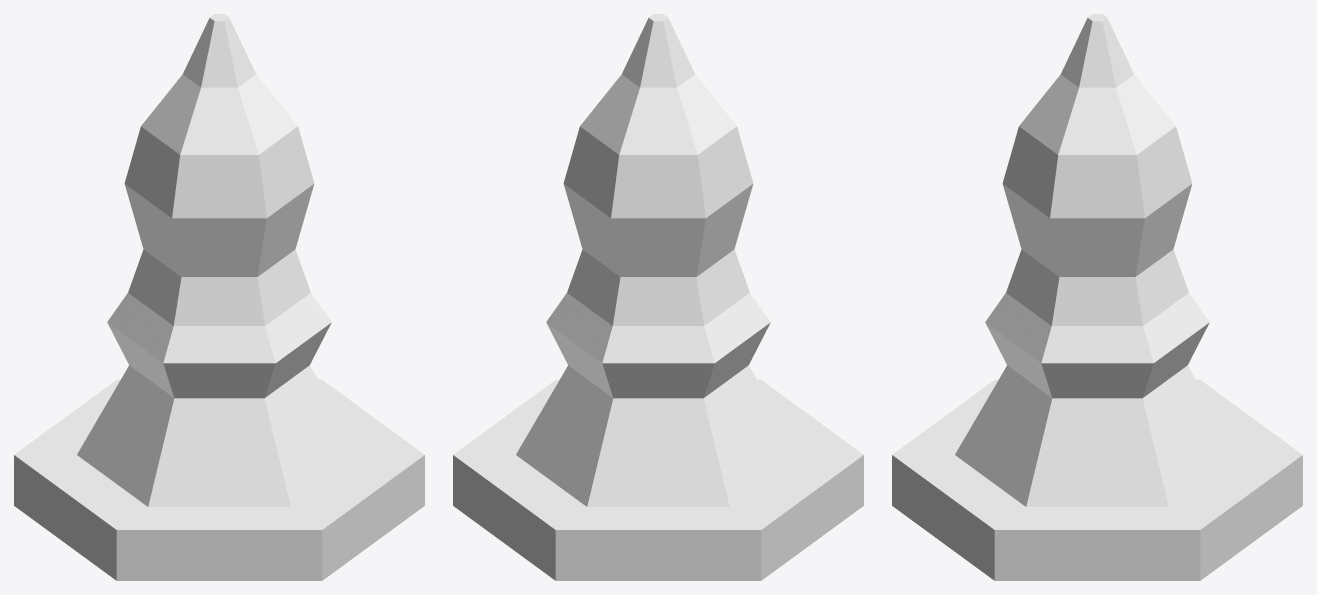
File: chesspiecebishop01.gltf
The picture shows the model from 3 angles, left to right: view 1: azimuth 30°, elevation 25°; view 2: azimuth 150°, elevation 25°; view 3: azimuth 270°, elevation 25°; orthographic projection.
Visible parts, largest first — view 1: Cylinder.003; view 2: Cylinder.003; view 3: Cylinder.003.
Part boxes in pixels (x1,y1,x2,y2): Cylinder.003: (14,14,424,580); Cylinder.003: (453,14,863,580); Cylinder.003: (892,14,1302,580).
Size of the model in its own units: 0.0225 by 0.0341 by 0.026.
1 material, 1 textured.
